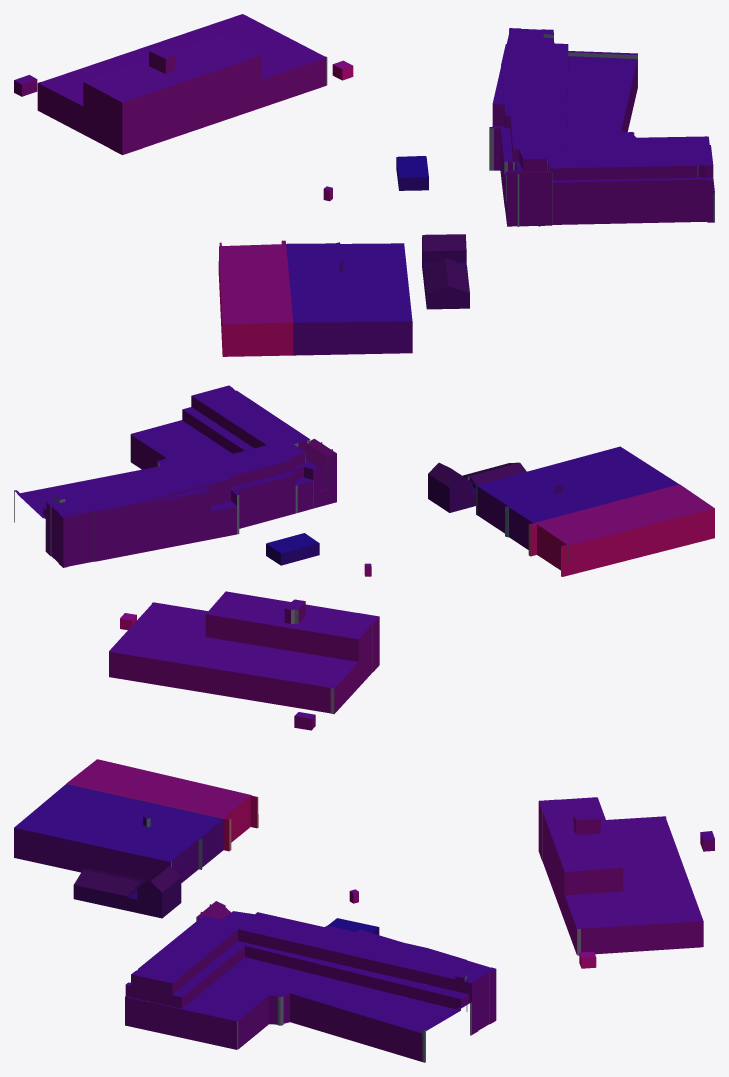
The model's file is buildings_10_7.glb.
3 views of the same model, one above another, from view 1: azimuth 30°, elevation 25°; view 2: azimuth 150°, elevation 25°; view 3: azimuth 270°, elevation 25° (orthographic). The views are drawn at different scales.
Parts seen in each view (by area): view 1: buildings_10_7; view 2: buildings_10_7; view 3: buildings_10_7.
Boxes of the visible parts, box(x1,y1,x2,y2) form: buildings_10_7: box(14, 14, 714, 356); buildings_10_7: box(14, 385, 714, 730); buildings_10_7: box(14, 759, 714, 1062).
Bounding box in the file's own units: 164 × 18.13 × 178.
